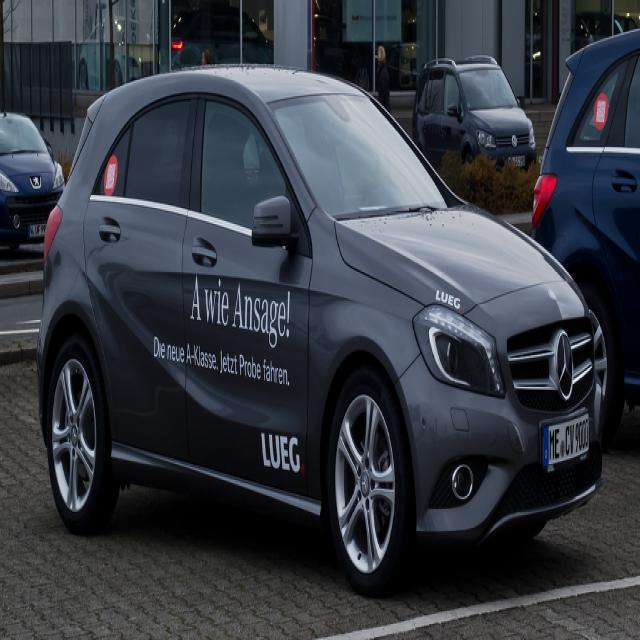car: (34, 55, 609, 585)
